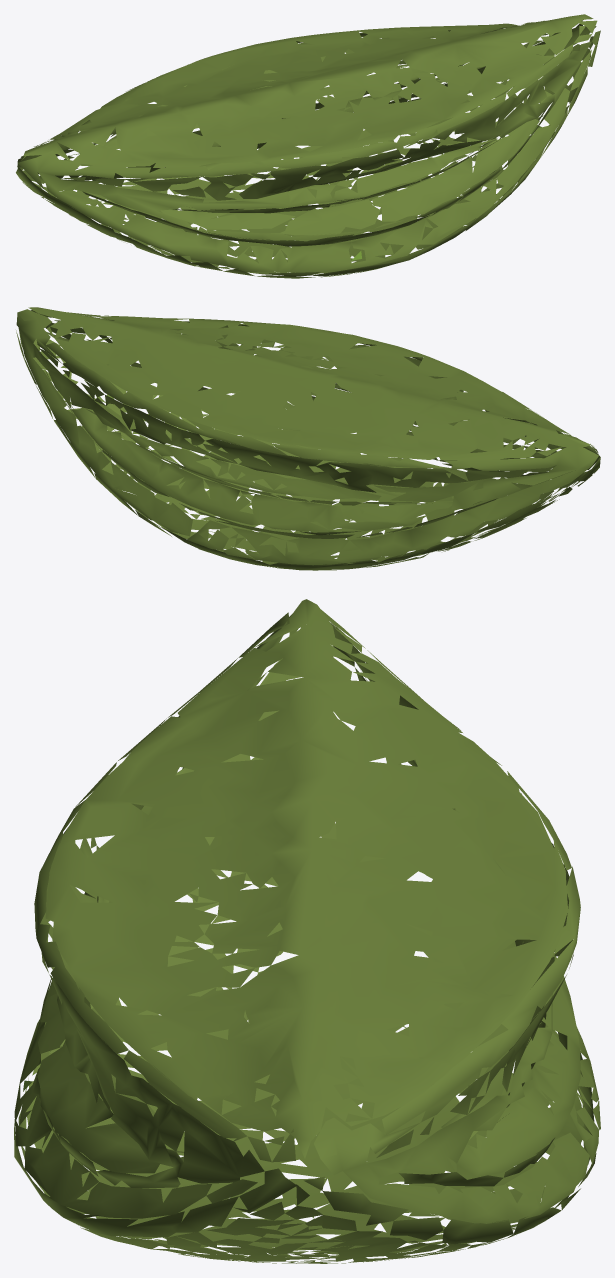
File: leaf.glb
3 views of the same model, one above another, from view 1: azimuth 30°, elevation 25°; view 2: azimuth 150°, elevation 25°; view 3: azimuth 270°, elevation 25° (orthographic). The views are drawn at different scales.
Bounding box in the file's own units: 0.0802 × 0.0201 × 0.0352.
Materials: 1 (1 with a texture image).
